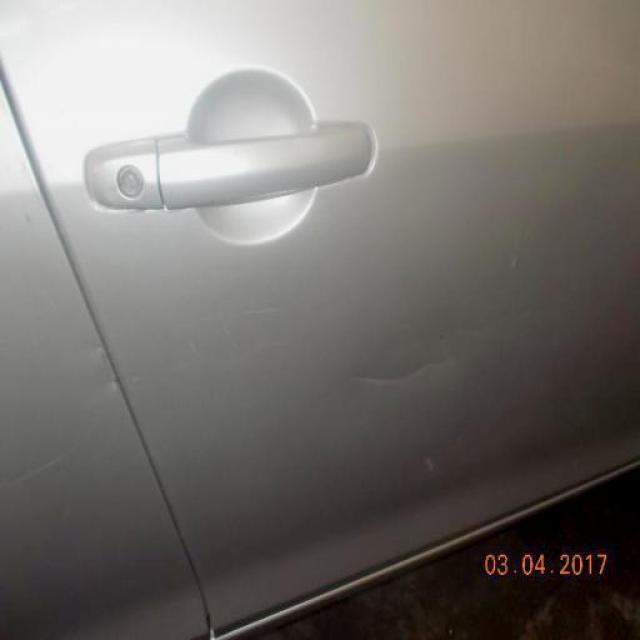Car-Damage: (348, 349, 467, 402), (88, 338, 140, 411)
